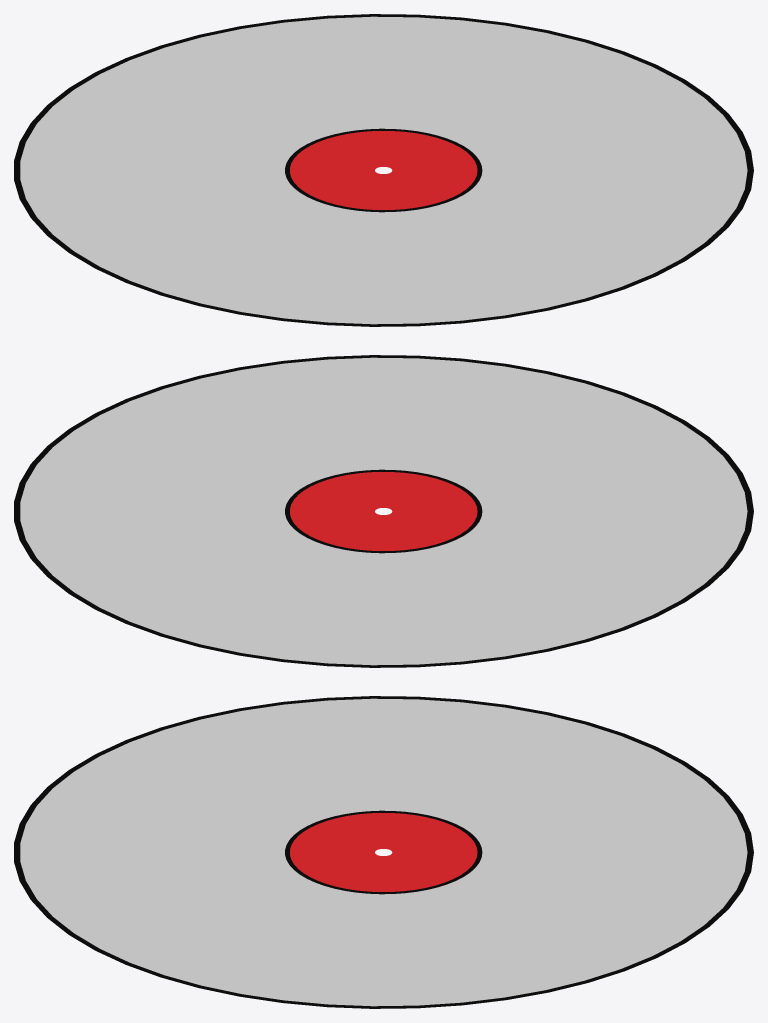
3 renders of one model, top to bottom at view 1: azimuth 30°, elevation 25°; view 2: azimuth 150°, elevation 25°; view 3: azimuth 270°, elevation 25°, orthographic.
Parts seen in each view (by area): view 1: Circle; view 2: Circle; view 3: Circle.
Boxes of the visible parts, x1,y1,x2,y2 form: Circle: [14, 14, 753, 326]; Circle: [14, 355, 753, 667]; Circle: [14, 696, 753, 1008].
Size of the model in its own units: 2.6 by 0 by 2.6.
